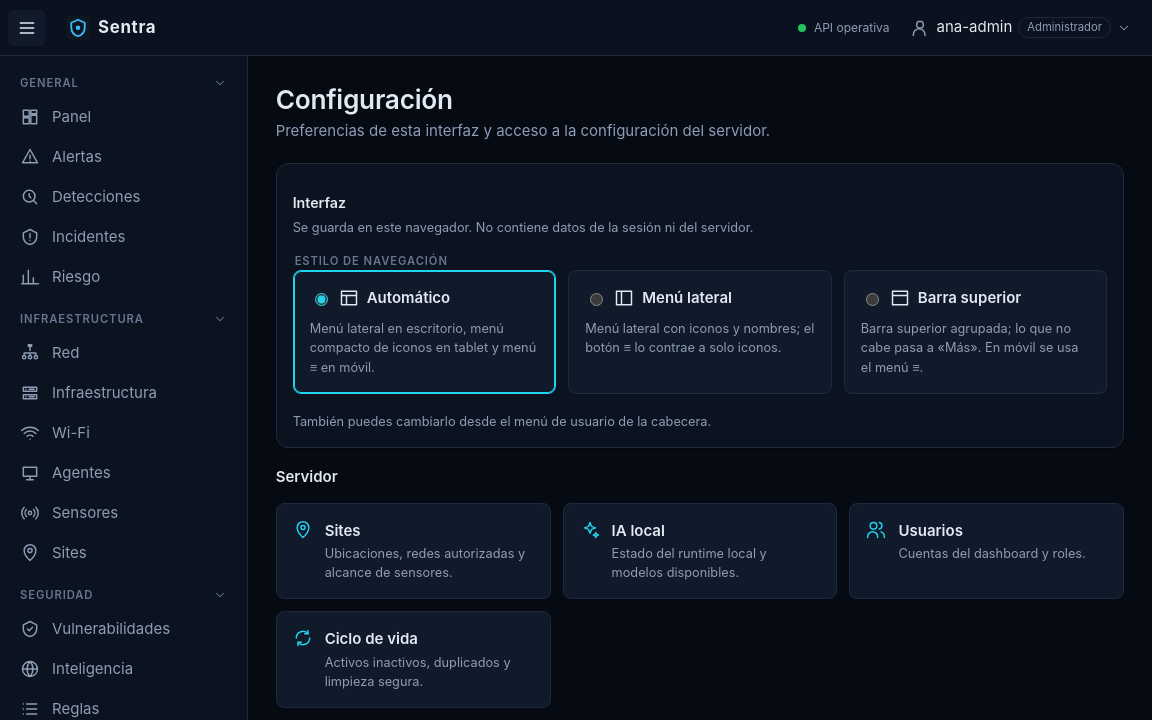
Test: barra superior y preferencias › con el almacenamiento bloqueado avisa y aplica el estilo en la pestaña
What coordinates should you click on to do the following:
click the radio button labelled "Barra superior"
I would click on:
 (872, 300)
Its box is left=866, top=293, right=879, bottom=306.
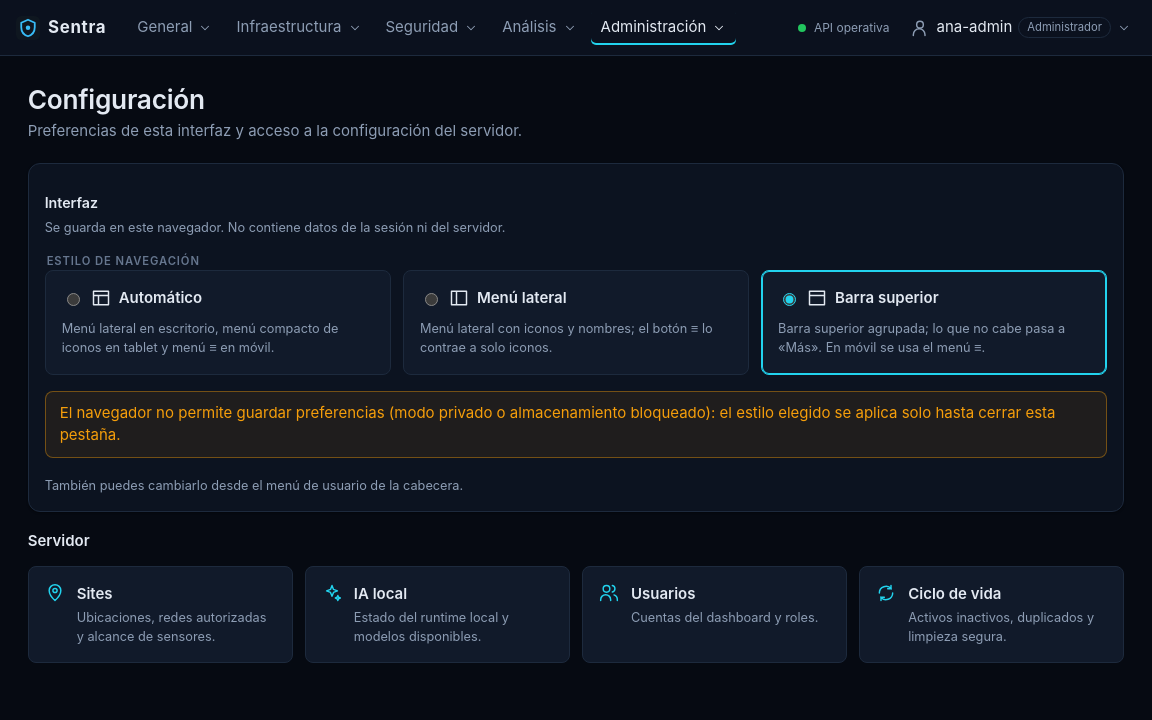
Expected: the button "General" is shown, left=126, top=10, right=224, bottom=46
Expected: the message shows "no permite guardar", left=60, top=402, right=1056, bottom=444
